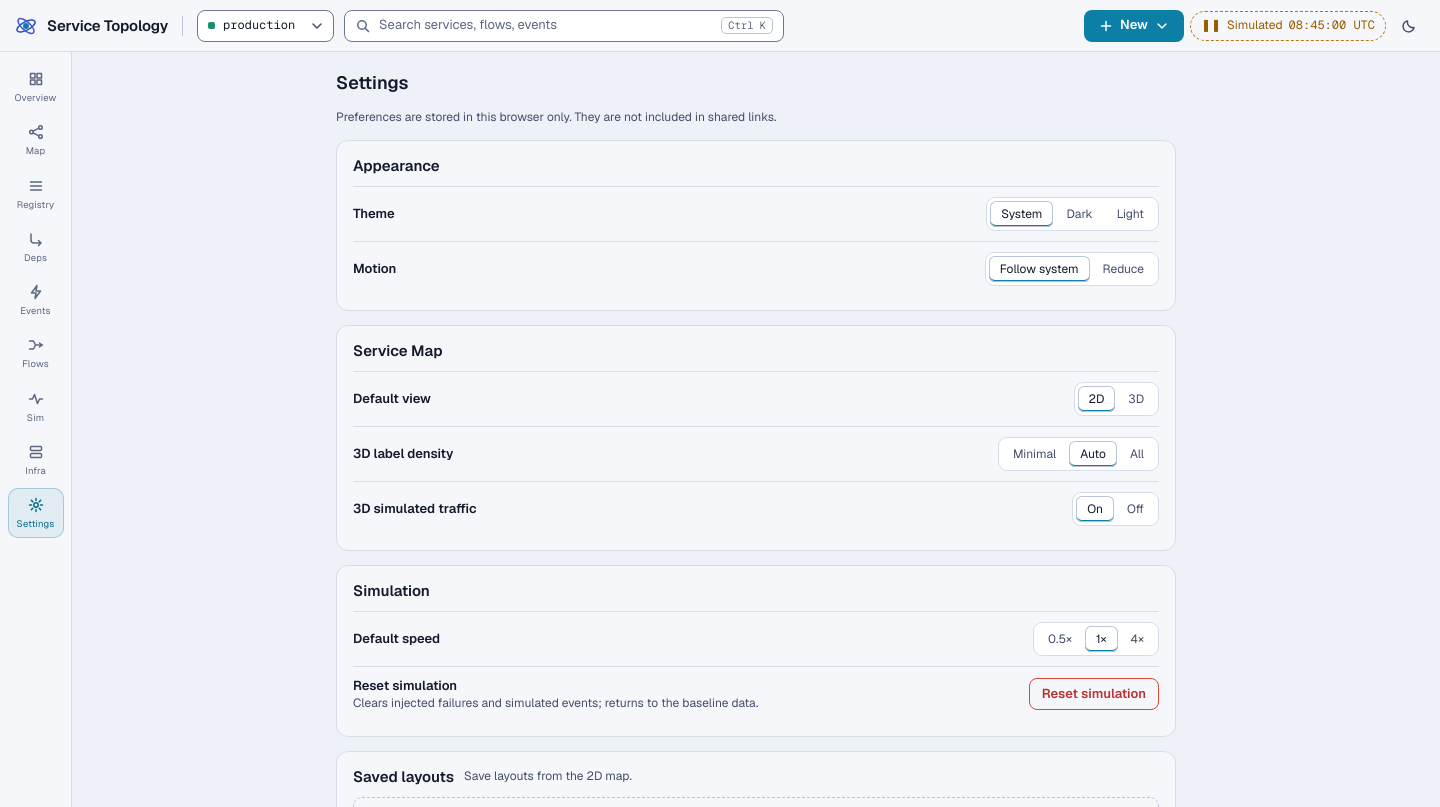
it: business flows catalog (ADR-022) › lists the flows of the environment from the navigation, searchable by step, service, or event
The width and height of the screenshot is (1440, 807).
Step 1. Click the link "Flows" → (35, 354), box top-left (22, 338), bottom-right (49, 370)
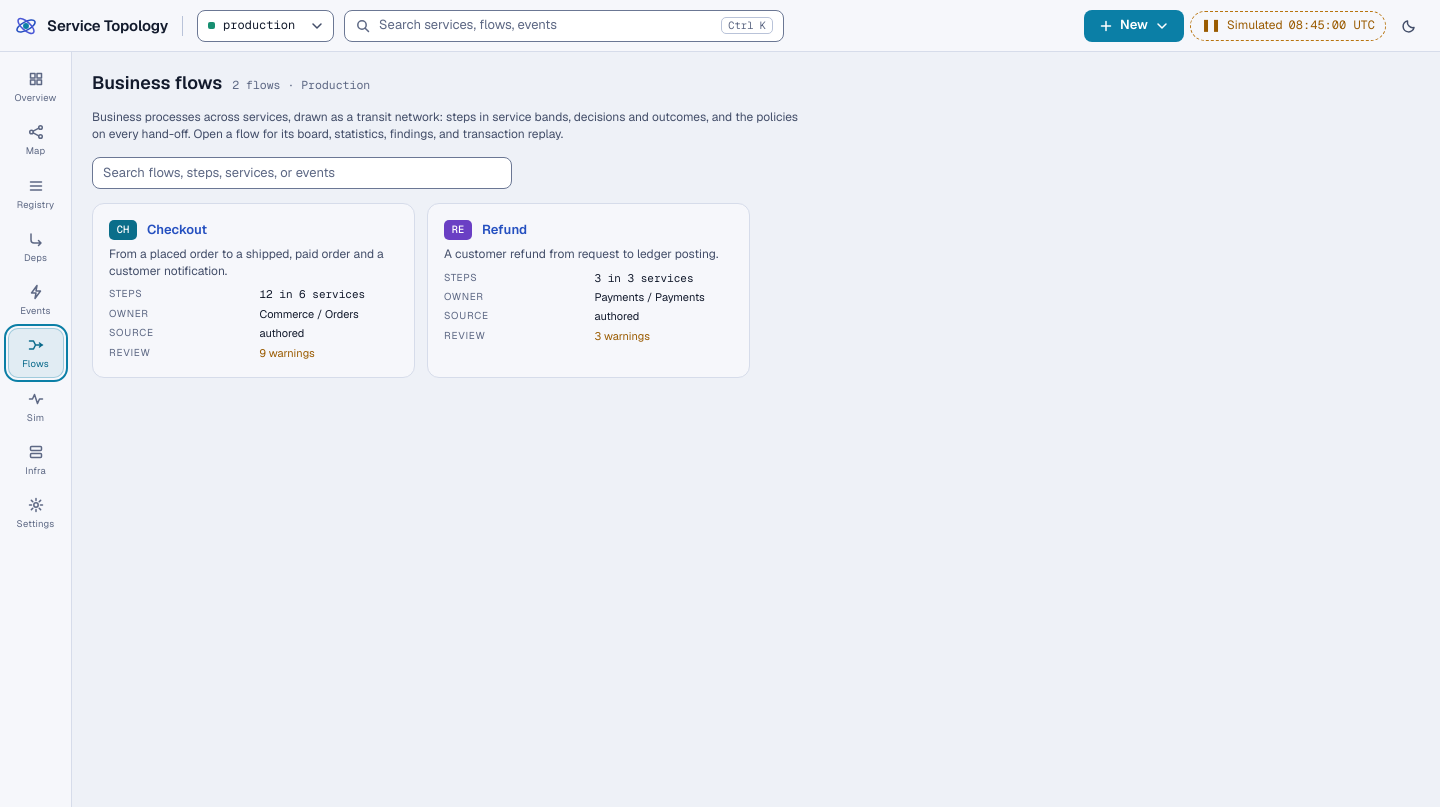
expect the list item that starts with "Checkout" shows "12 in 6 services": met, box top-left (92, 203), bottom-right (415, 378)
Step 2. Type "RefundIssued" into the search field labelled "Search flows" → (302, 173), box top-left (92, 157), bottom-right (512, 189)
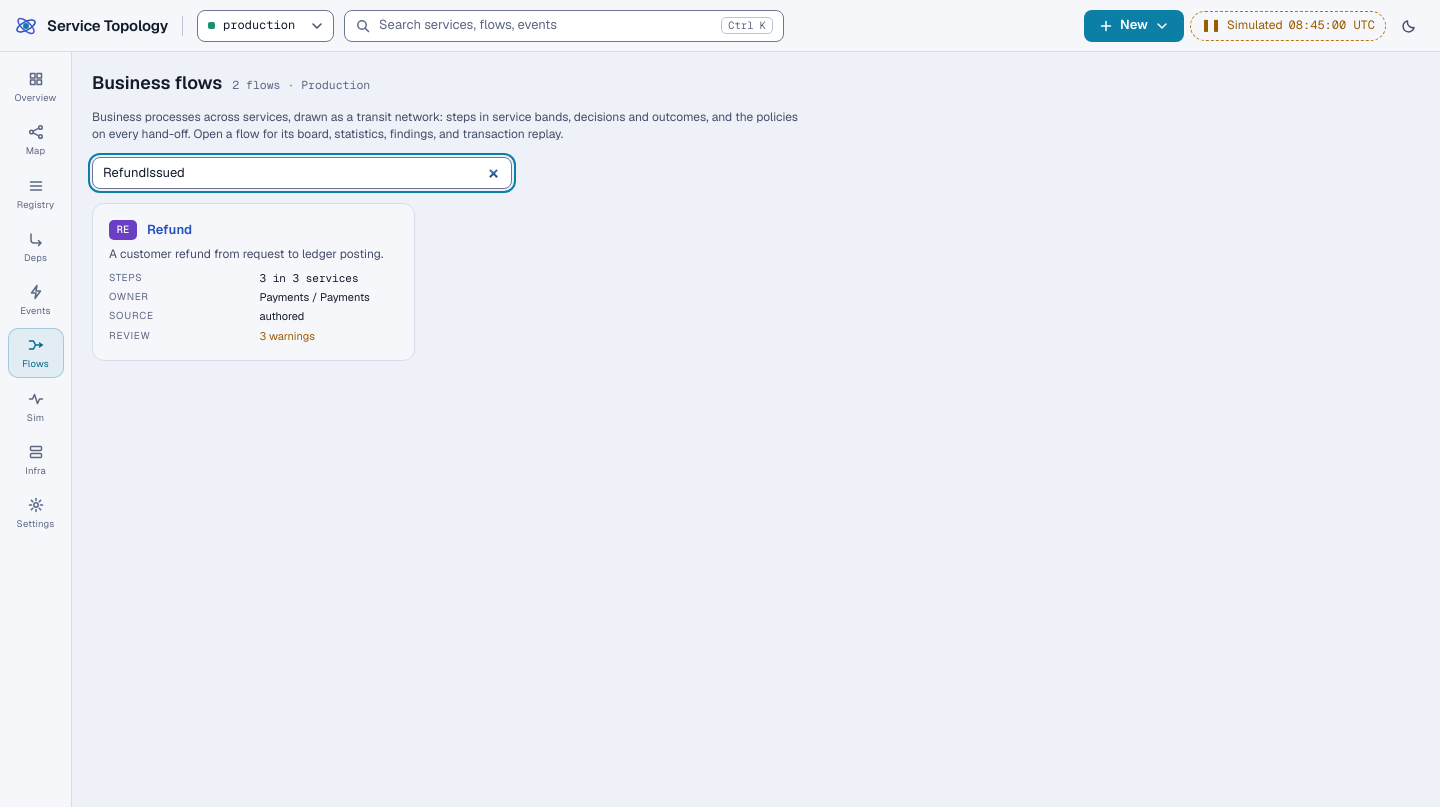
expect the number of list items is 1: met, box top-left (92, 203), bottom-right (415, 361)
Step 3. Replace the text in the search field named "Search flows" with "zzz" → (302, 173), box top-left (92, 157), bottom-right (512, 189)
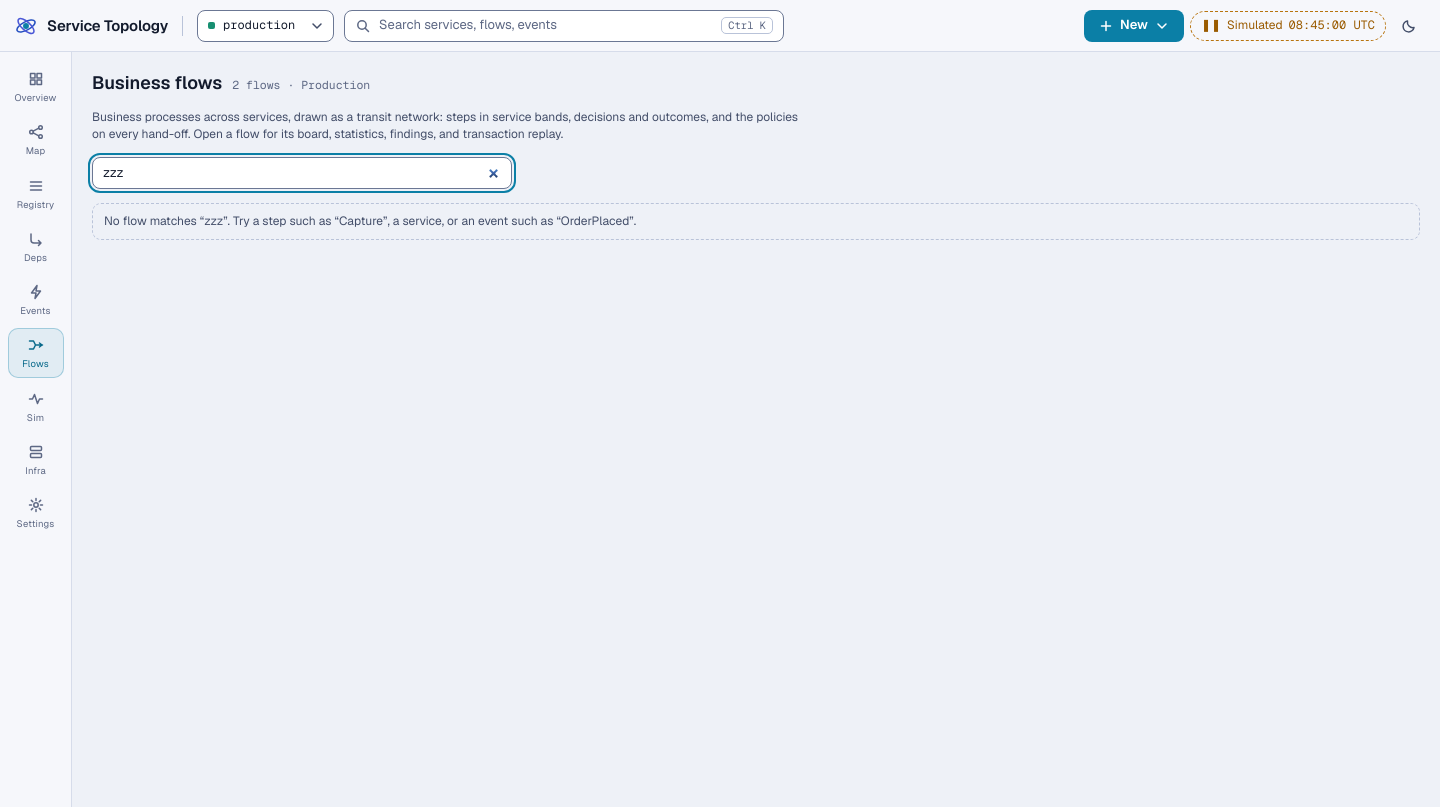
expect the text "No flow matches “zzz”" is shown: met, box top-left (92, 203), bottom-right (1420, 240)
